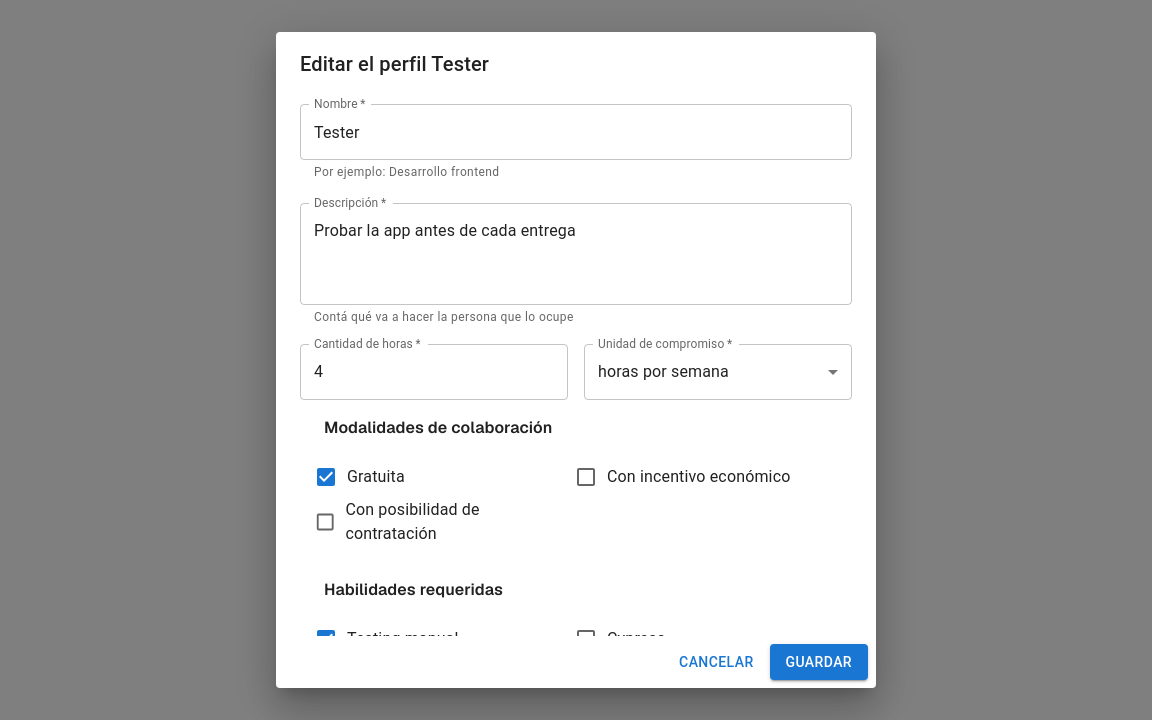
FormularioDePerfil al editar › no reenvía una fecha límite vencida que nadie tocó
The width and height of the screenshot is (1152, 720).
Replace the text in the text box labelled "Descripción *" with "Probar cada entrega" at (576, 254), box top-left (314, 219), bottom-right (838, 288)
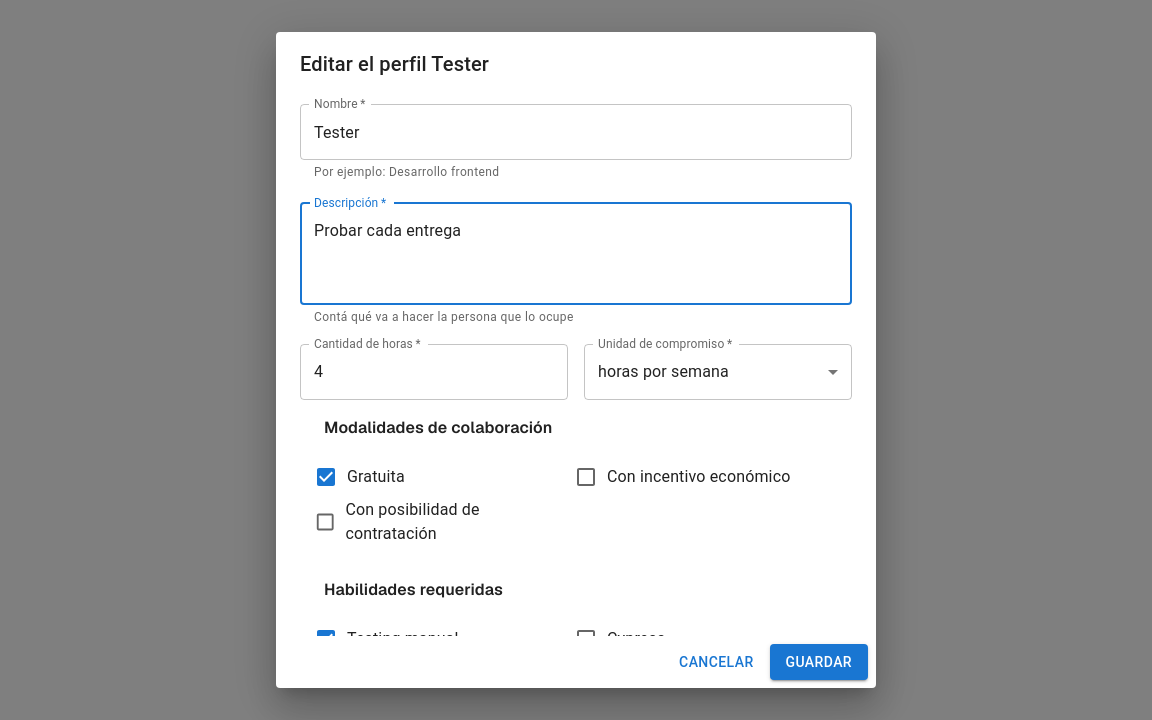
Click the button "Guardar" at (819, 662), box top-left (770, 644), bottom-right (868, 680)
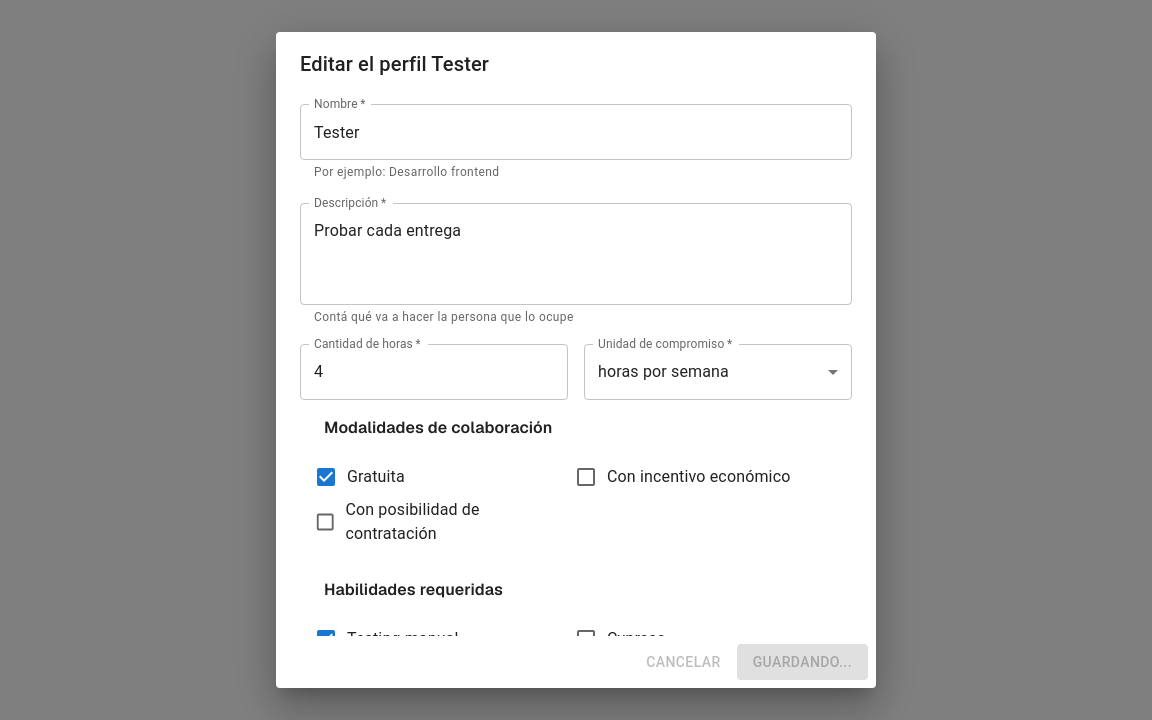
Now the button "Guardando..." is shown, box top-left (737, 644), bottom-right (868, 680)
